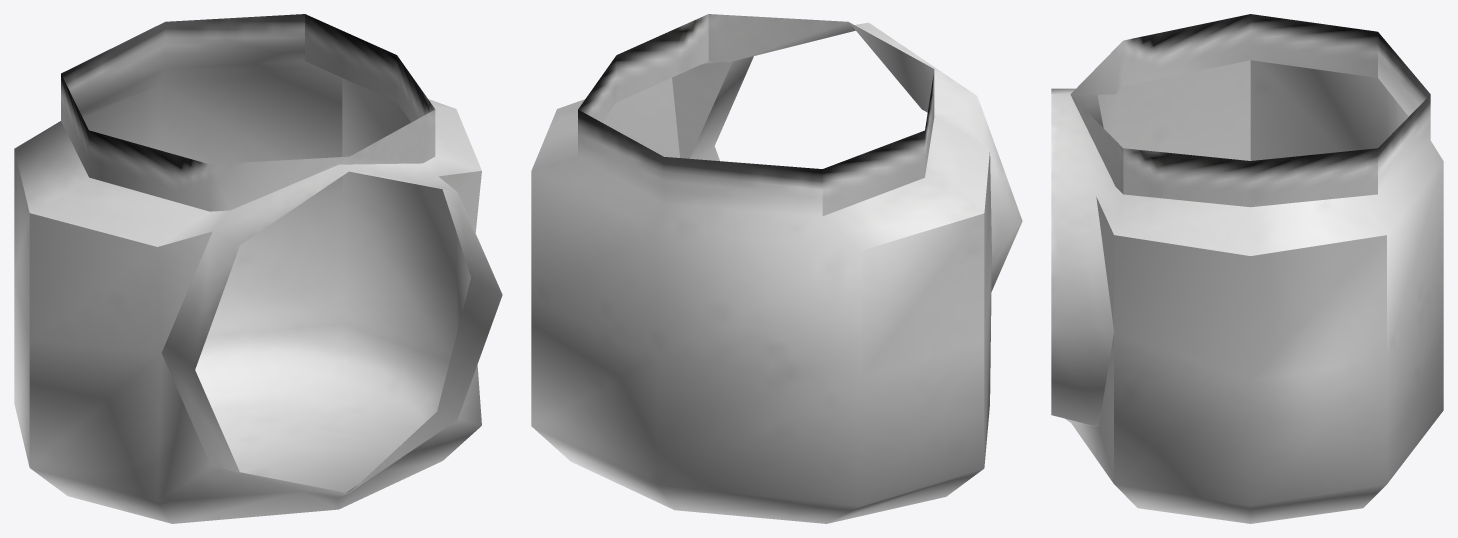
File: little_arm_link_4.dae
3 views of the same model, side by side, from view 1: azimuth 30°, elevation 25°; view 2: azimuth 150°, elevation 25°; view 3: azimuth 270°, elevation 25° (orthographic). The views are drawn at different scales.
Parts seen in each view (by area): view 1: Little_Arm_4; view 2: Little_Arm_4; view 3: Little_Arm_4.
Boxes of the visible parts, x1,y1,x2,y2 form: Little_Arm_4: (14, 14, 502, 523); Little_Arm_4: (531, 14, 1022, 523); Little_Arm_4: (1051, 14, 1443, 523).
Size of the model in its own units: 0.2532 by 0.2061 by 0.2045.
Materials: 1 (1 with a texture image).
